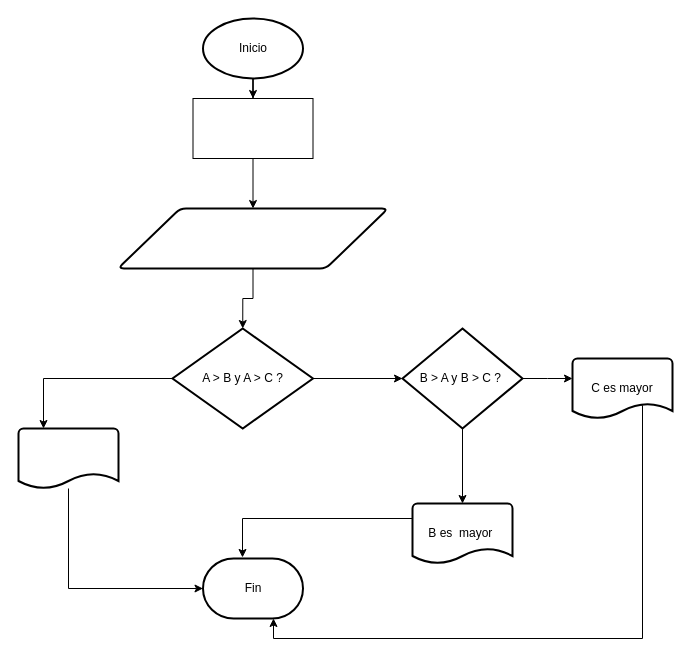
This 690x664 diagram has some shape labels left out. Each missing label, with the centre of its shape:
"A es mayor" goes at point 68,458.
"Calcular tres números y sacra el mayor" goes at point 252,128.
"Introduzca tres números, A,B,C" goes at point 252,238.
